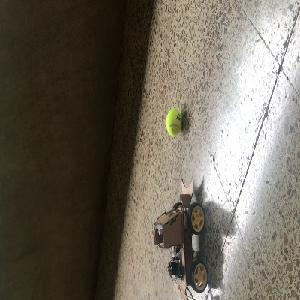Ball: (166, 107, 182, 136)
Robot: (153, 176, 207, 299)
